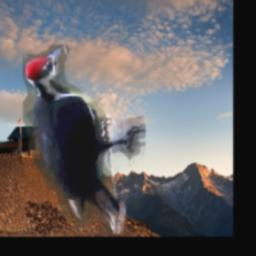Woodpecker: (24, 46, 147, 235)
